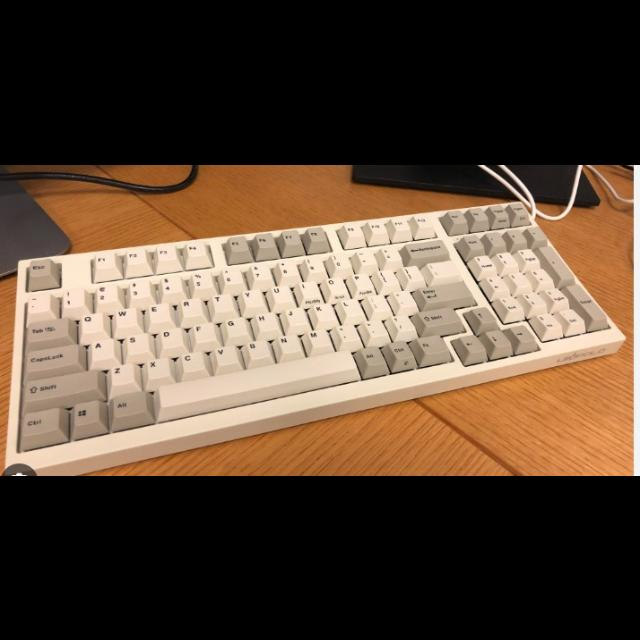Computer-Keyboard: (4, 198, 624, 474)
